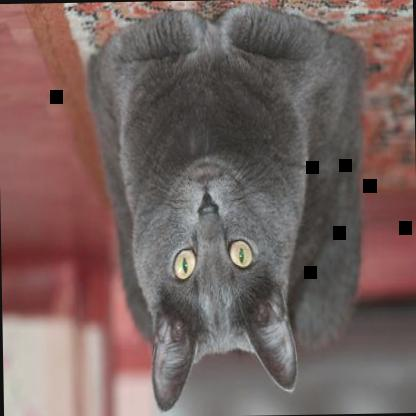cat: (86, 7, 368, 413)
